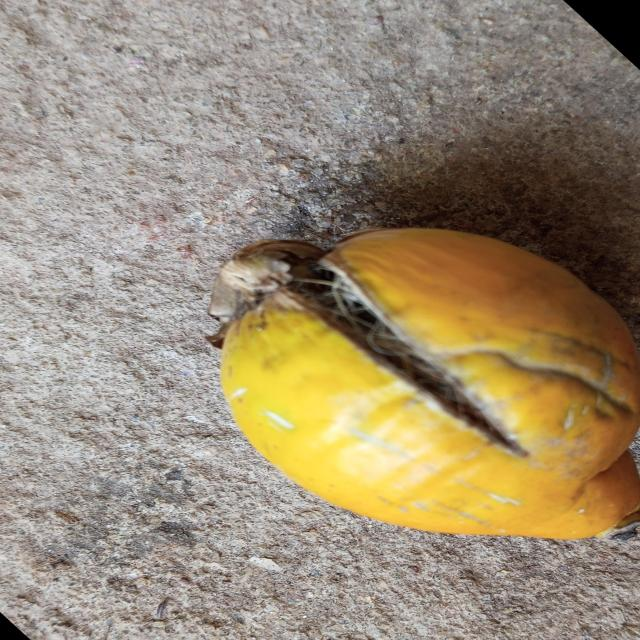damaged: (208, 229, 640, 539)
